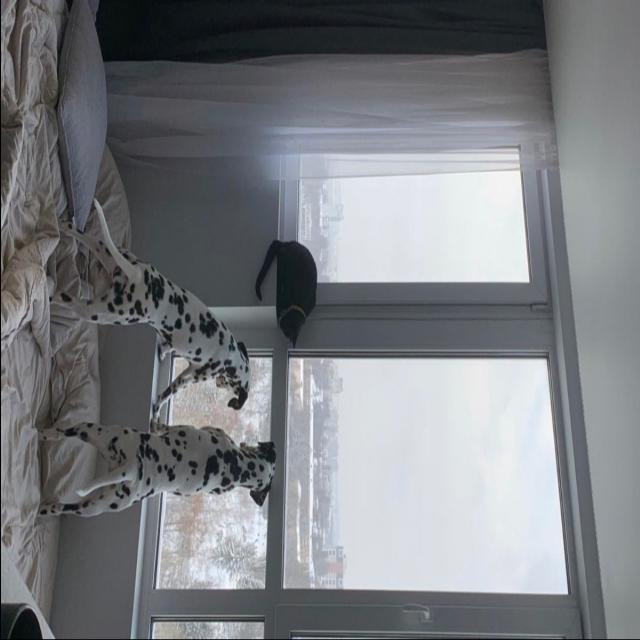Dogs: (42, 193, 252, 426), (28, 414, 280, 534)
